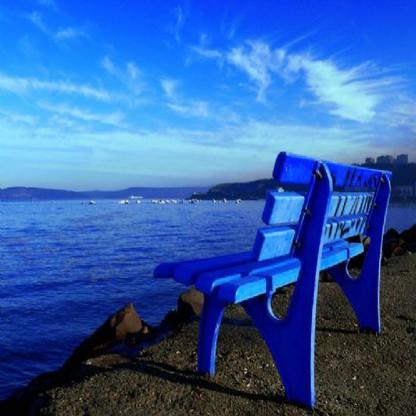obstacle: (148, 157, 402, 407)
